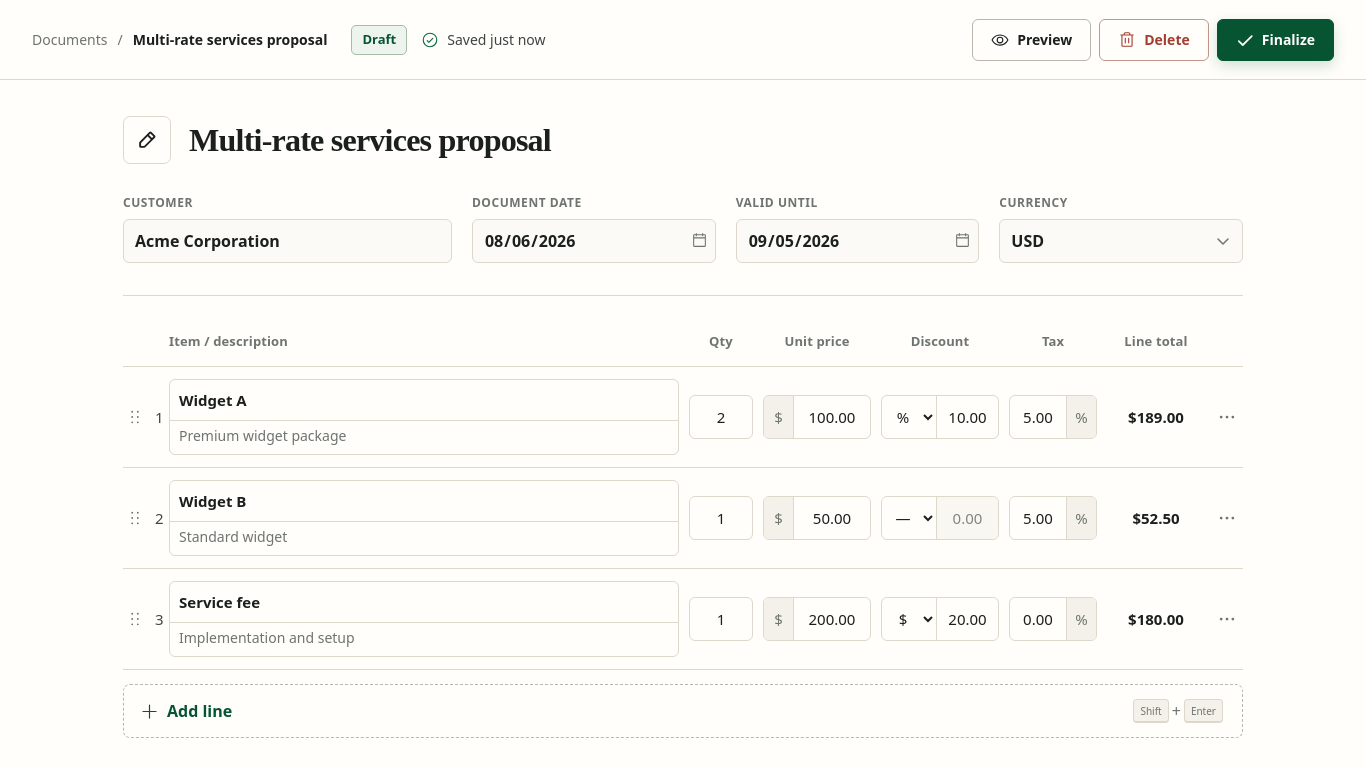
Test: DocumentEditorPage › keeps finalization blocked and explains the invalid line in its dialog
The width and height of the screenshot is (1366, 768).
Clear the field named "Line 1 quantity" at (721, 417), box [689, 395, 753, 439]
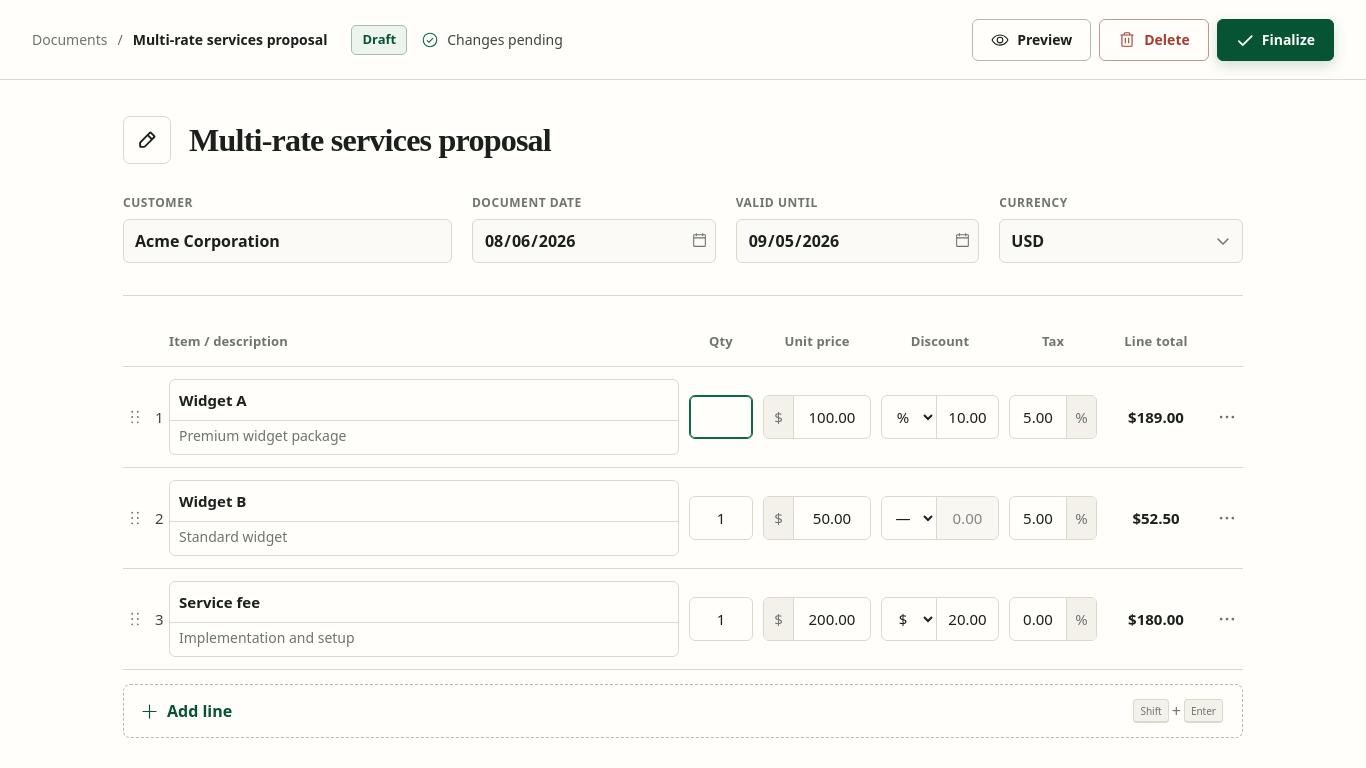
Click the button "Finalize" at (1275, 40), box [1217, 18, 1334, 60]
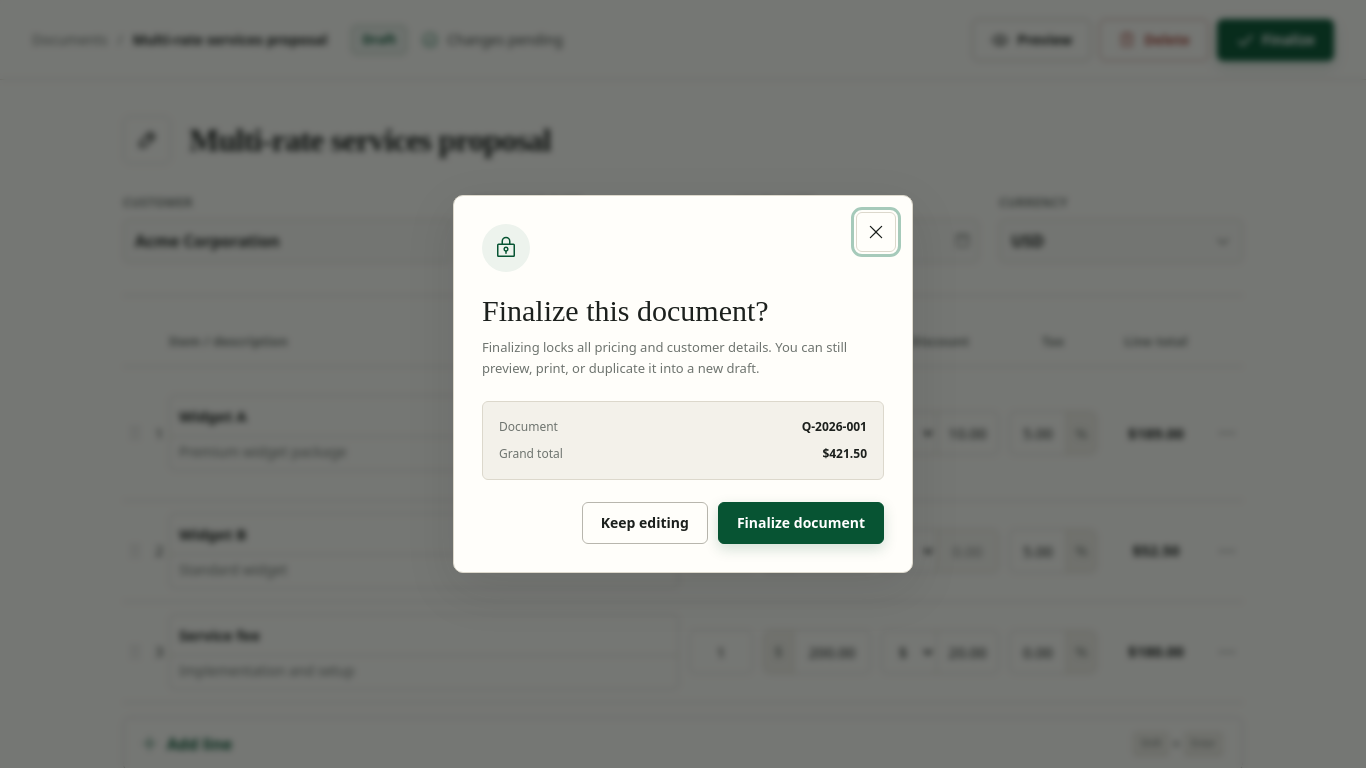
Click the button "Finalize document" at (801, 523), box [718, 502, 884, 544]
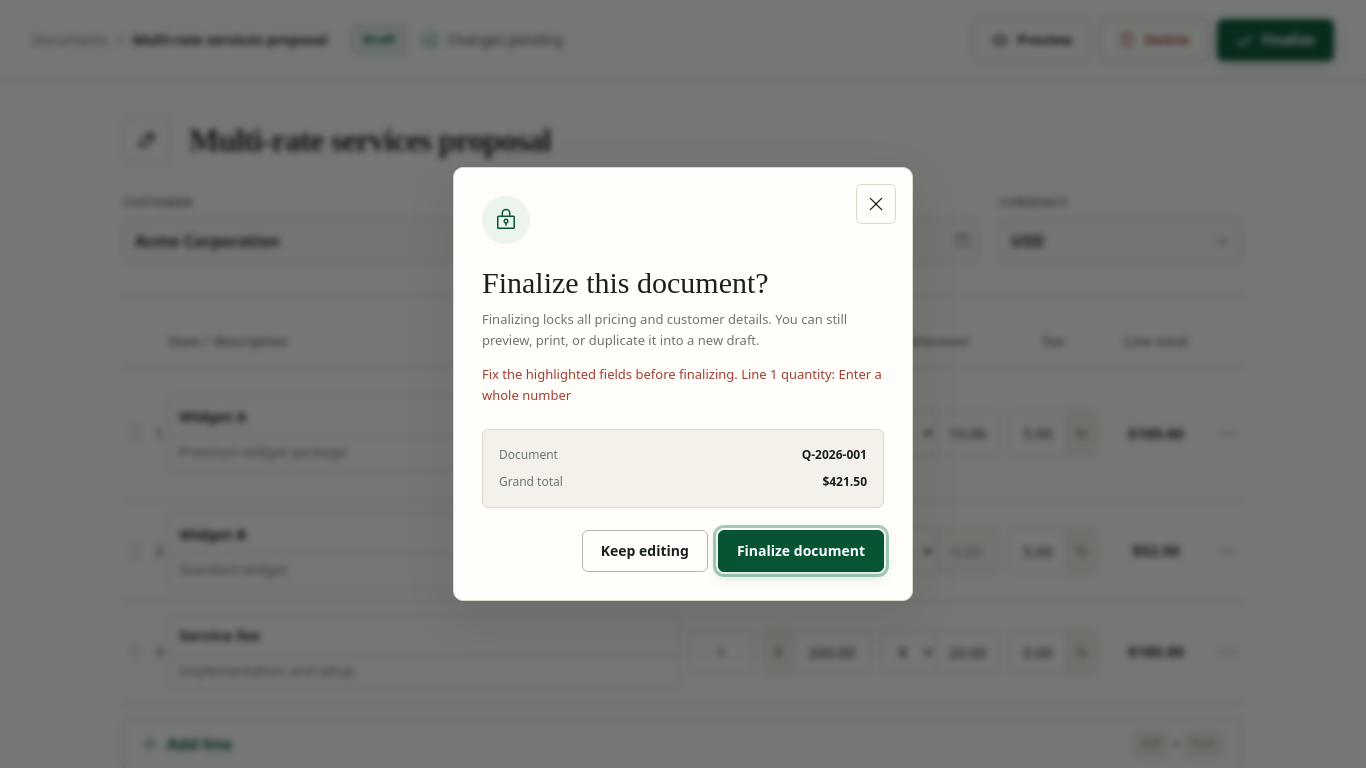
Result: the text "Line 1 quantity: Enter a whole number" is shown at [482, 365, 882, 404]
